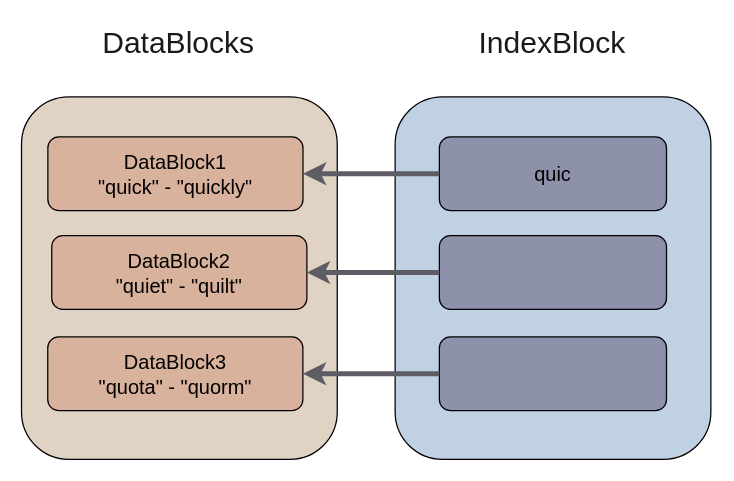
The diagram is 734 pixels wide and 481 high, and some of its shapes have lost their labels. Each missing label, with the box of its shape:
quid quickly < quid < quiet: (438, 234, 666, 309)
quj quilt < quj < quota: (438, 336, 666, 411)
